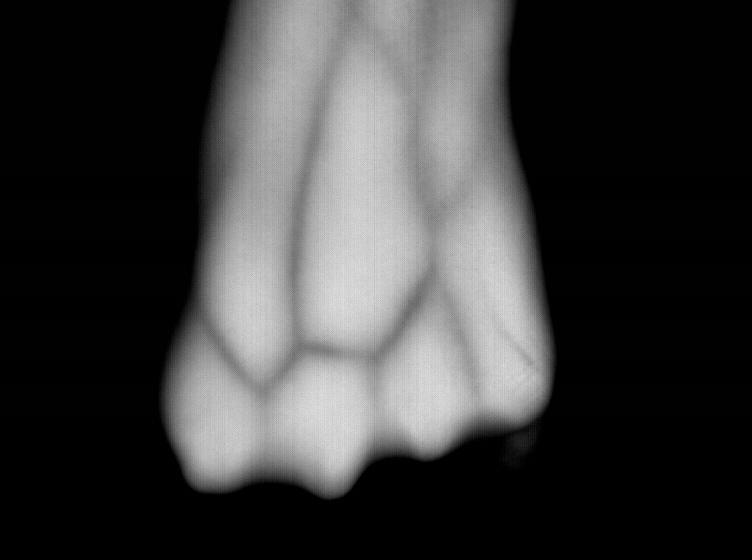Vein: (266, 23, 437, 388)
